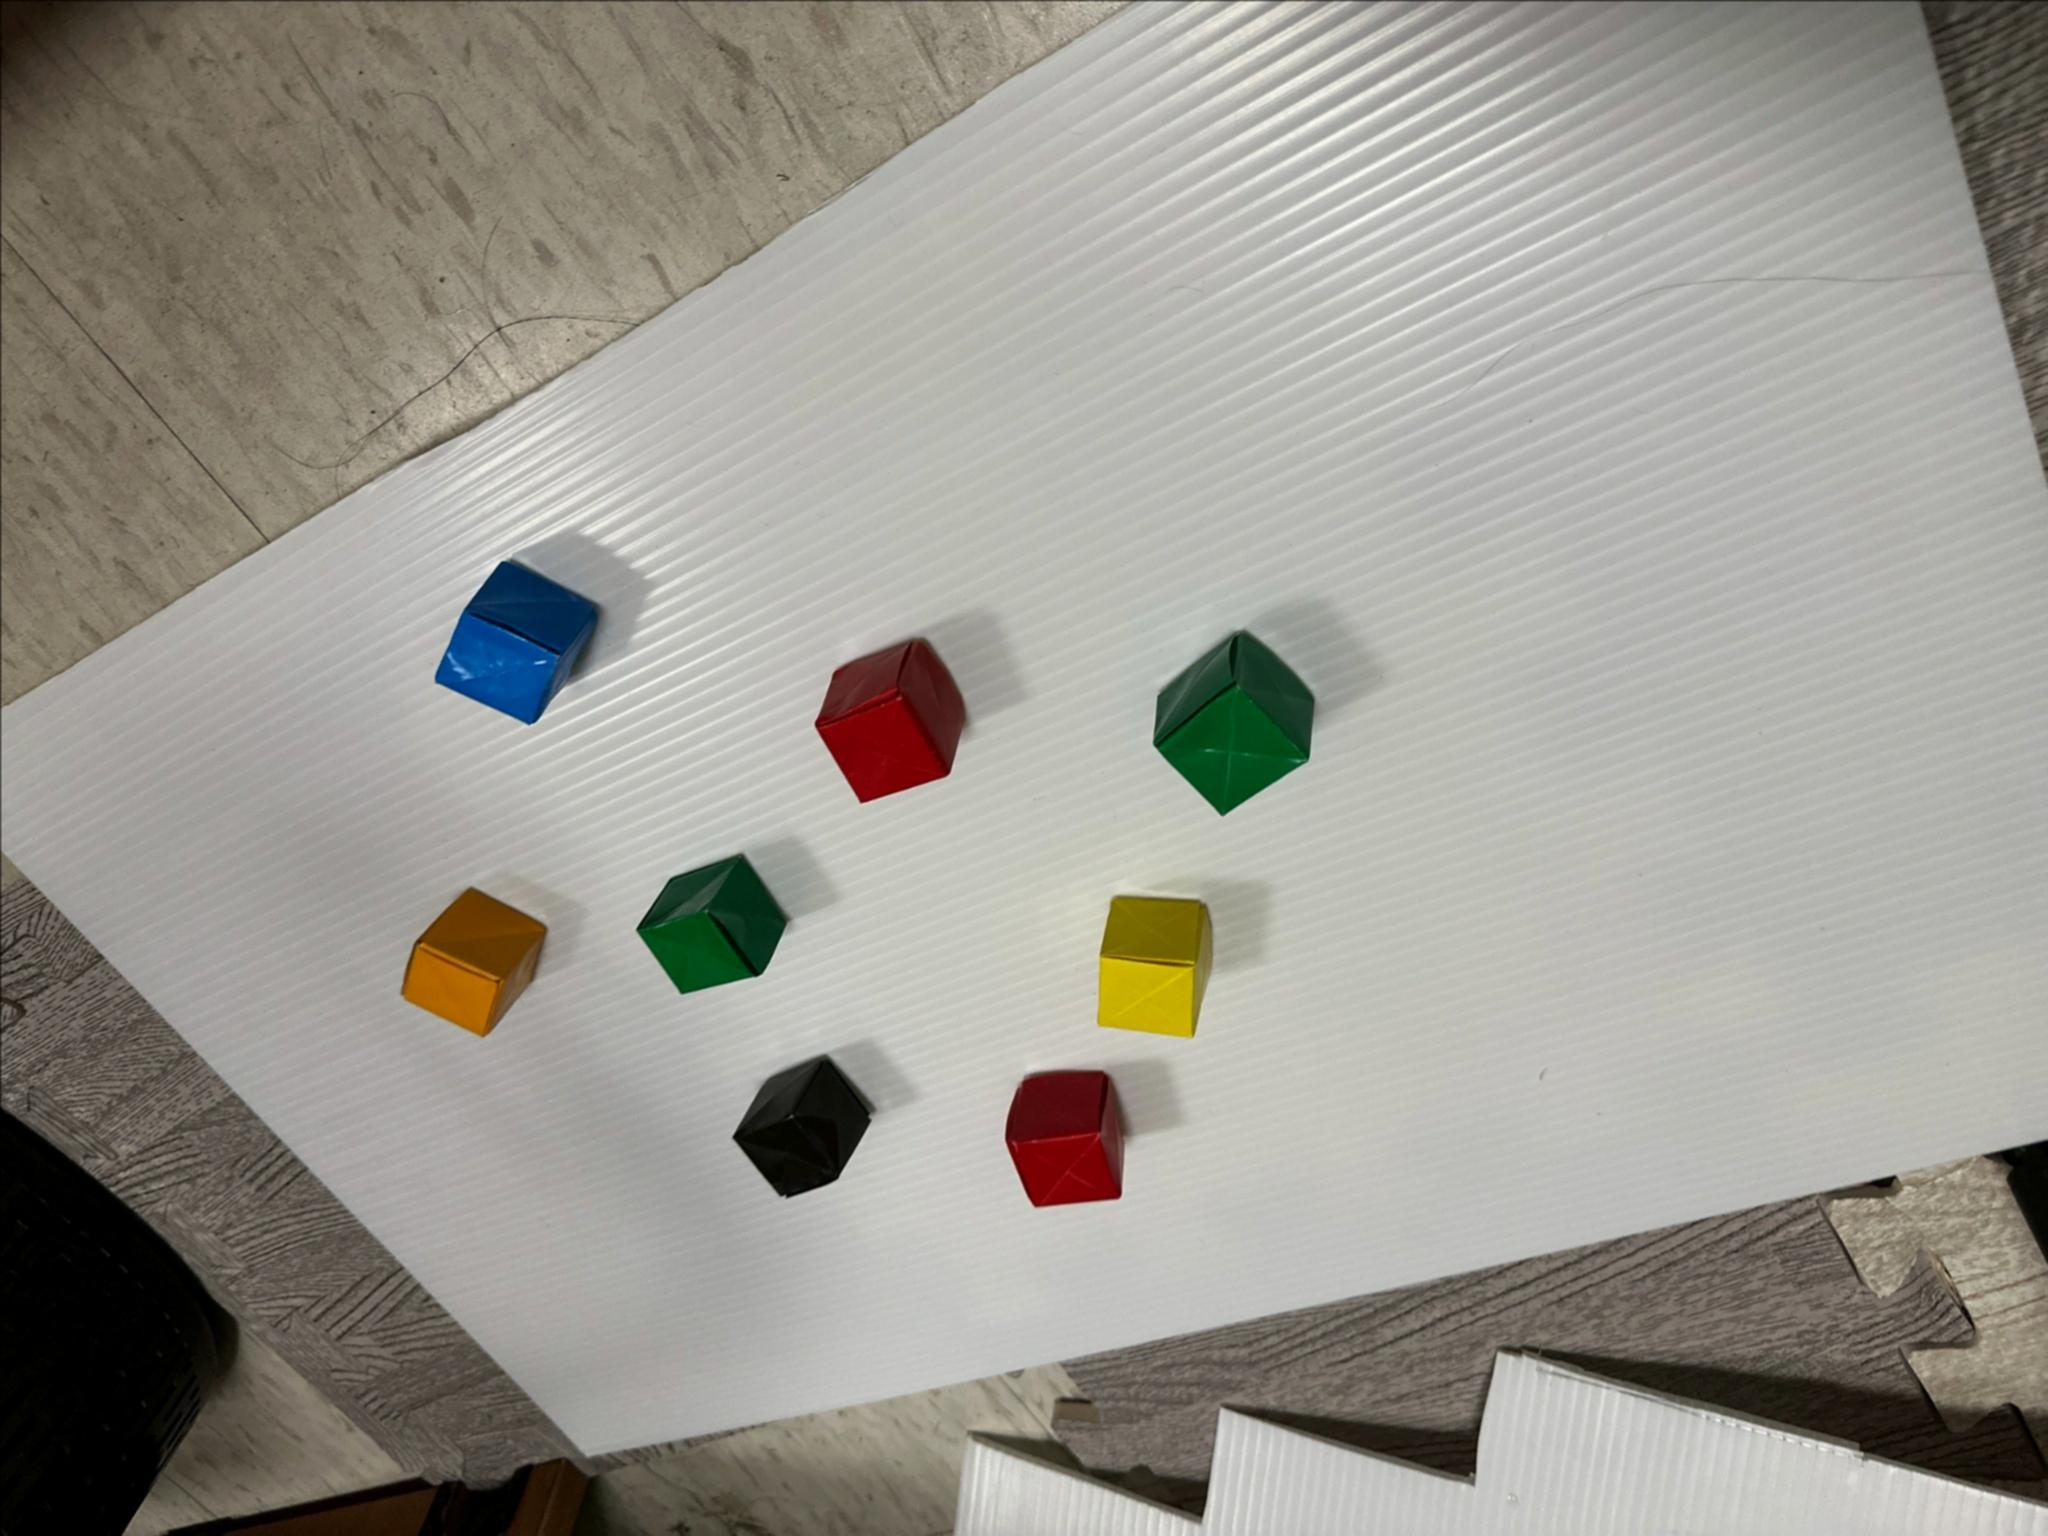base: (1155, 632, 1311, 813), (435, 560, 597, 723), (816, 639, 963, 800), (402, 887, 543, 1036), (637, 854, 785, 992), (732, 1058, 869, 1197), (1098, 895, 1211, 1036), (1005, 1071, 1119, 1205)
